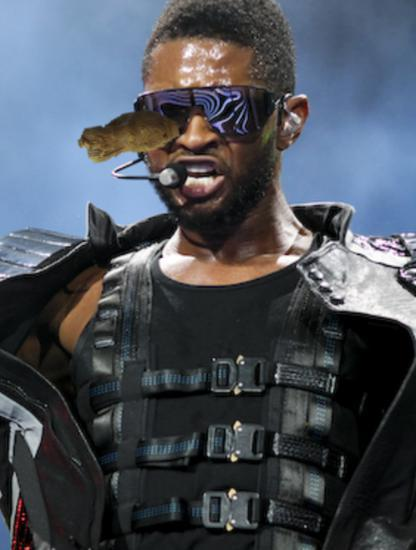Ginger: (76, 82, 182, 188)
